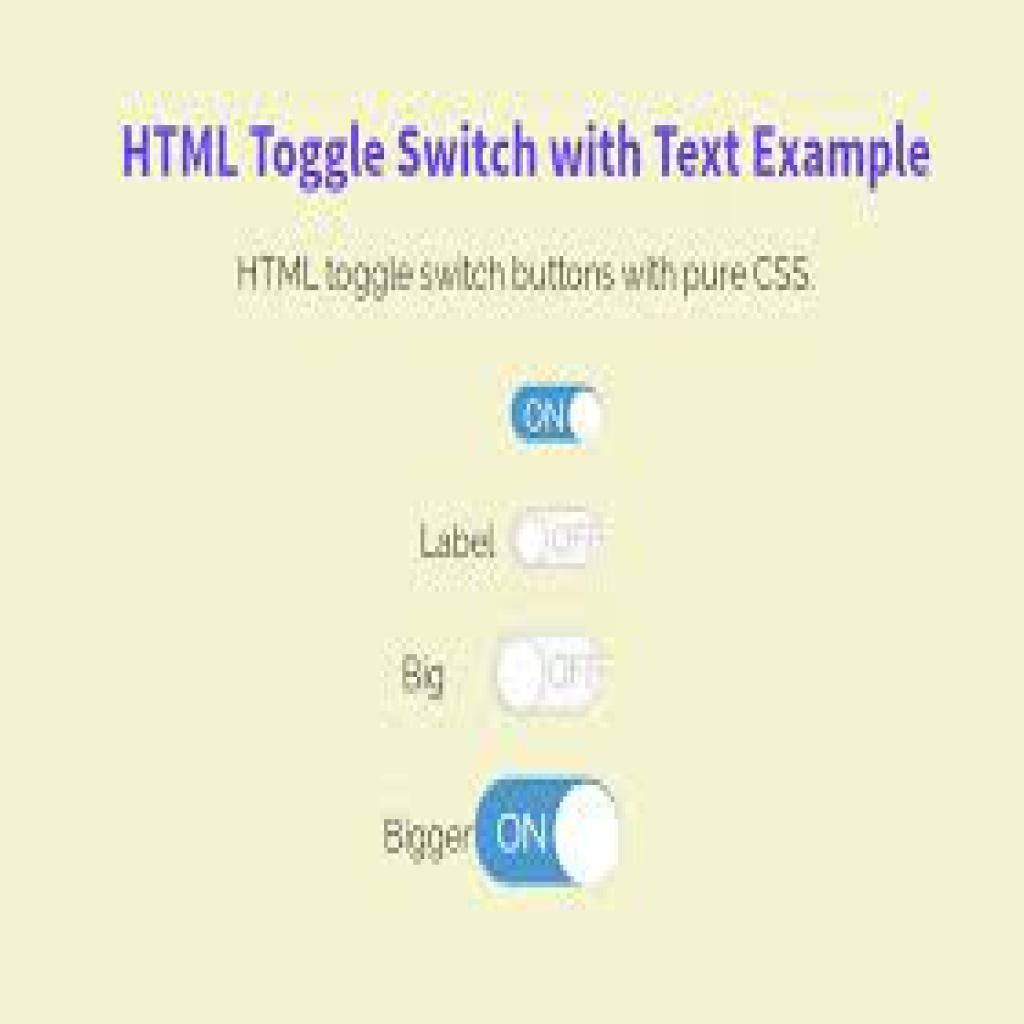switch: (473, 775, 624, 893), (495, 630, 612, 723), (500, 499, 623, 584), (508, 372, 611, 460)
